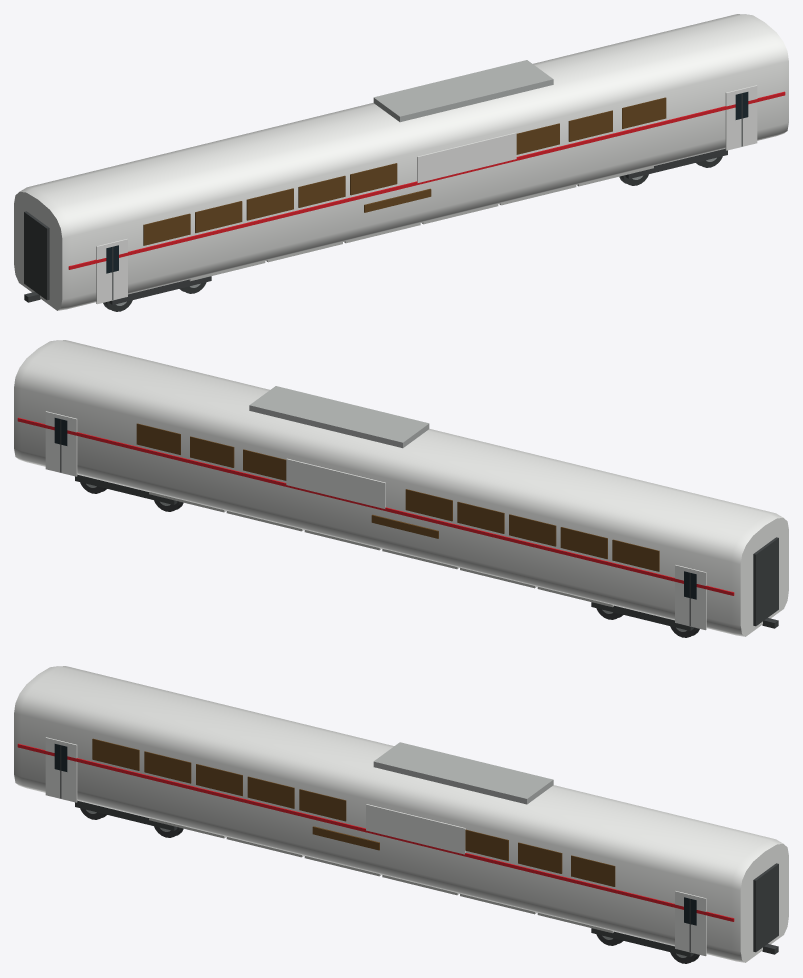
Rendered from ice3-br403-bordrestaurant-403-3.glb.
3 views of the same model, one above another, from view 1: azimuth 30°, elevation 25°; view 2: azimuth 150°, elevation 25°; view 3: azimuth 330°, elevation 25° (orthographic).
Visible parts, largest first — view 1: ice3_bordrestaurant_403_3_lofted_shell, bordrestaurant_403_3_kitchen_roof_hvac, bordrestaurant_403_3_red_belt_-1, bordrestaurant_403_3_galley_blank_panel_-1, bordrestaurant_403_3_gangway_-1, bordrestaurant_403_3_1_door_-1, bordrestaurant_403_3_0_door_-1, bordrestaurant_403_3_04_window_-1, bordrestaurant_403_3_00_window_-1, bordrestaurant_403_3_02_window_-1, bordrestaurant_403_3_01_window_-1, bordrestaurant_403_3_03_window_-1 (+6 smaller); view 2: ice3_bordrestaurant_403_3_lofted_shell, bordrestaurant_403_3_kitchen_roof_hvac, bordrestaurant_403_3_red_belt_1, bordrestaurant_403_3_galley_blank_panel_1, bordrestaurant_403_3_gangway_-1, bordrestaurant_403_3_1_door_1, bordrestaurant_403_3_0_door_1, bordrestaurant_403_3_04_window_1, bordrestaurant_403_3_00_window_1, bordrestaurant_403_3_02_window_1, bordrestaurant_403_3_01_window_1, bordrestaurant_403_3_03_window_1 (+6 smaller); view 3: ice3_bordrestaurant_403_3_lofted_shell, bordrestaurant_403_3_kitchen_roof_hvac, bordrestaurant_403_3_red_belt_-1, bordrestaurant_403_3_galley_blank_panel_-1, bordrestaurant_403_3_gangway_1, bordrestaurant_403_3_0_door_-1, bordrestaurant_403_3_1_door_-1, bordrestaurant_403_3_03_window_-1, bordrestaurant_403_3_04_window_-1, bordrestaurant_403_3_00_window_-1, bordrestaurant_403_3_01_window_-1, bordrestaurant_403_3_02_window_-1 (+6 smaller).
Boxes of the visible parts, x1,y1,x2,y2 form: ice3_bordrestaurant_403_3_lofted_shell: [14, 14, 788, 310]; bordrestaurant_403_3_kitchen_roof_hvac: [373, 60, 553, 122]; bordrestaurant_403_3_red_belt_-1: [68, 91, 785, 269]; bordrestaurant_403_3_galley_blank_panel_-1: [417, 132, 516, 182]; bordrestaurant_403_3_gangway_-1: [24, 211, 49, 300]; bordrestaurant_403_3_1_door_-1: [725, 85, 757, 150]; bordrestaurant_403_3_0_door_-1: [96, 239, 127, 304]; bordrestaurant_403_3_04_window_-1: [350, 163, 397, 195]; bordrestaurant_403_3_00_window_-1: [143, 213, 190, 245]; bordrestaurant_403_3_02_window_-1: [246, 188, 293, 220]; bordrestaurant_403_3_01_window_-1: [195, 201, 242, 233]; bordrestaurant_403_3_03_window_-1: [298, 175, 345, 207]; ice3_bordrestaurant_403_3_lofted_shell: [14, 340, 788, 636]; bordrestaurant_403_3_kitchen_roof_hvac: [249, 386, 429, 448]; bordrestaurant_403_3_red_belt_1: [17, 417, 734, 595]; bordrestaurant_403_3_galley_blank_panel_1: [286, 458, 385, 508]; bordrestaurant_403_3_gangway_-1: [753, 537, 778, 626]; bordrestaurant_403_3_1_door_1: [45, 411, 77, 476]; bordrestaurant_403_3_0_door_1: [675, 565, 706, 630]; bordrestaurant_403_3_04_window_1: [405, 489, 452, 521]; bordrestaurant_403_3_00_window_1: [612, 539, 659, 571]; bordrestaurant_403_3_02_window_1: [509, 514, 556, 546]; bordrestaurant_403_3_01_window_1: [560, 527, 607, 559]; bordrestaurant_403_3_03_window_1: [457, 501, 504, 533]; ice3_bordrestaurant_403_3_lofted_shell: [14, 666, 788, 962]; bordrestaurant_403_3_kitchen_roof_hvac: [373, 742, 553, 804]; bordrestaurant_403_3_red_belt_-1: [17, 743, 734, 921]; bordrestaurant_403_3_galley_blank_panel_-1: [366, 804, 465, 854]; bordrestaurant_403_3_gangway_1: [753, 863, 778, 952]; bordrestaurant_403_3_0_door_-1: [45, 737, 77, 802]; bordrestaurant_403_3_1_door_-1: [675, 891, 706, 956]; bordrestaurant_403_3_03_window_-1: [247, 776, 294, 808]; bordrestaurant_403_3_04_window_-1: [299, 789, 346, 821]; bordrestaurant_403_3_00_window_-1: [92, 738, 139, 770]; bordrestaurant_403_3_01_window_-1: [144, 751, 191, 783]; bordrestaurant_403_3_02_window_-1: [196, 764, 242, 796].
Bounding box in the file's own units: 25.4 × 4.1 × 3.05.
